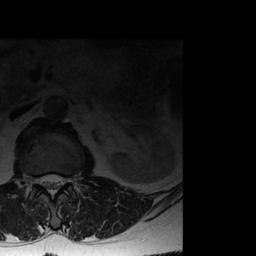CCS_normal: (47, 167, 56, 205)
LFS_stenosis: (64, 167, 73, 192)
LLS_normal: (56, 167, 65, 195)
RFS_normal: (29, 167, 38, 193)
RLS_normal: (38, 167, 47, 195)
